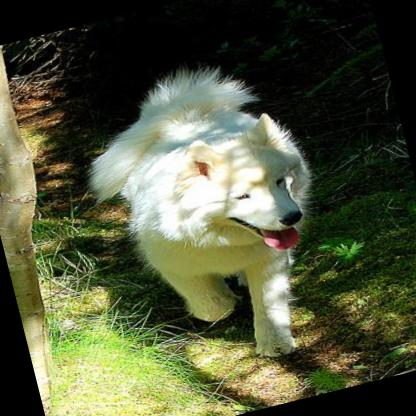Samoyed: (66, 45, 354, 390)
